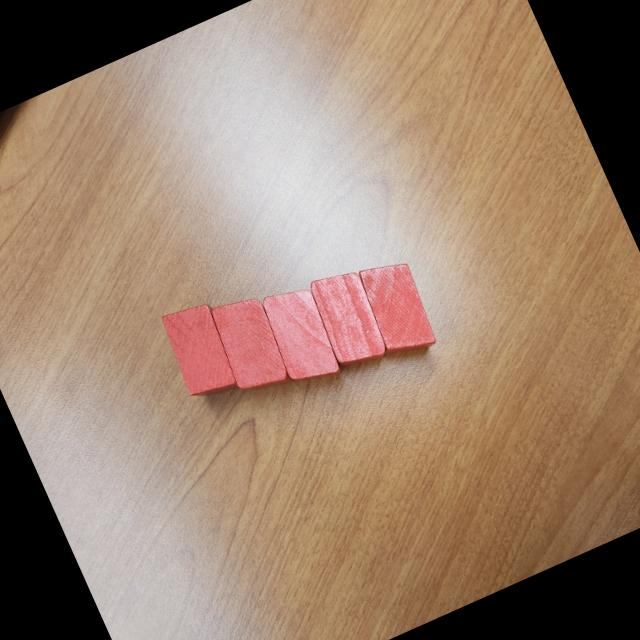red: (156, 296, 248, 406), (210, 300, 293, 392), (264, 289, 339, 381), (360, 263, 435, 354), (311, 272, 384, 365)
